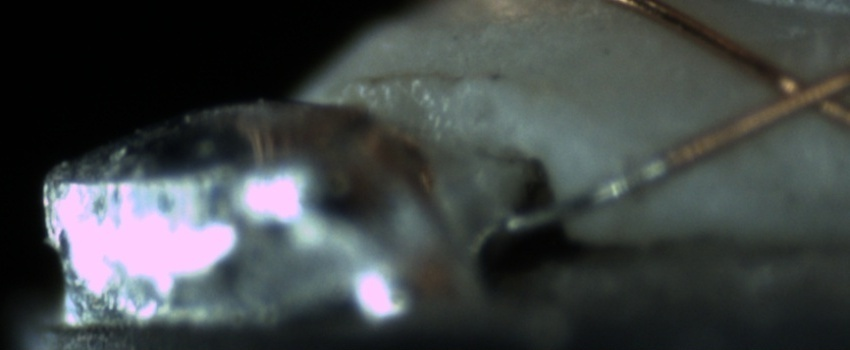CL: (754, 56, 848, 124)
TS: (502, 152, 668, 235)
TTCW: (500, 134, 696, 235)
